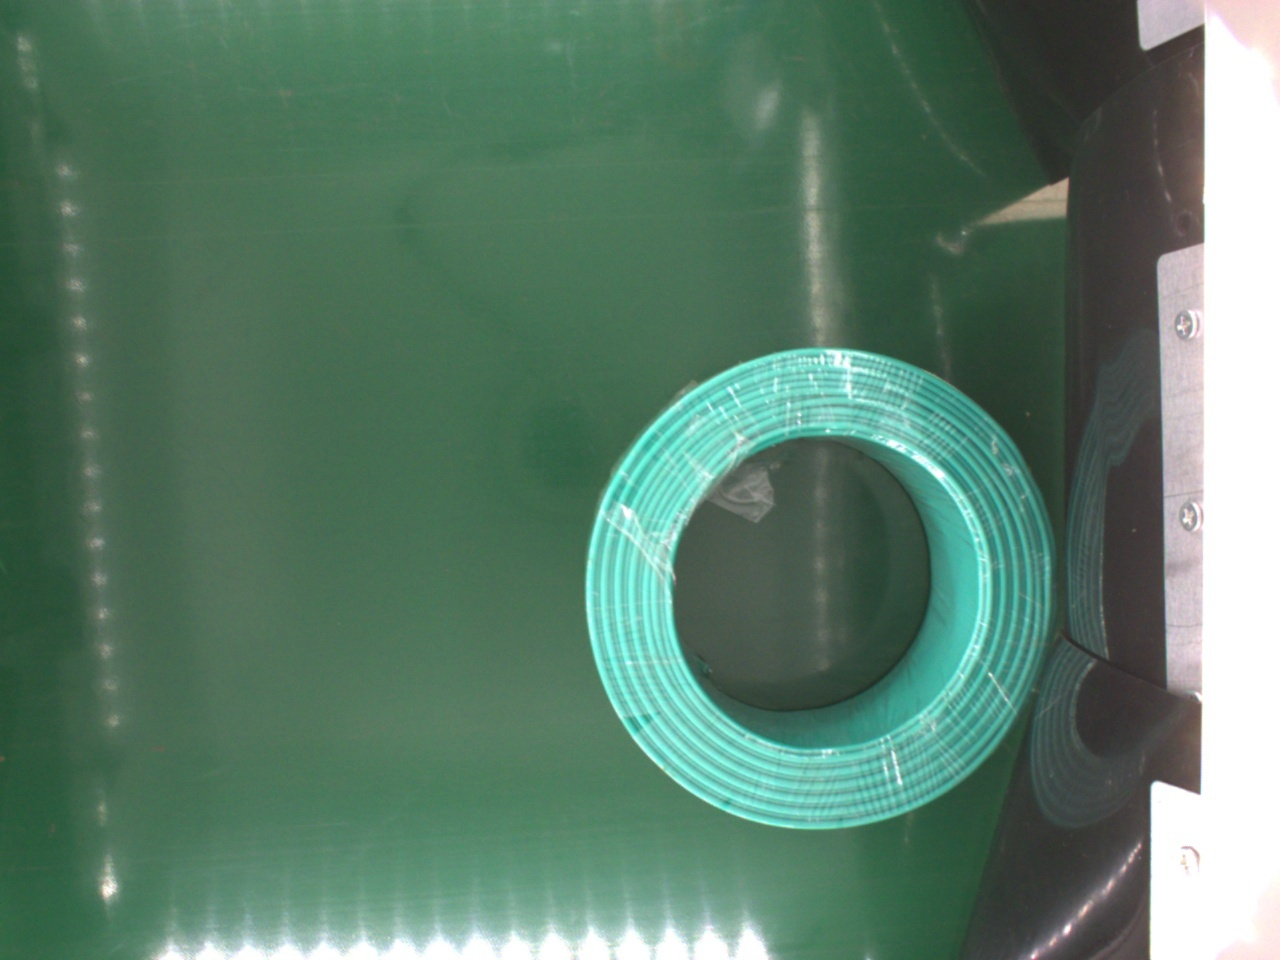green: (581, 351, 1051, 831)
